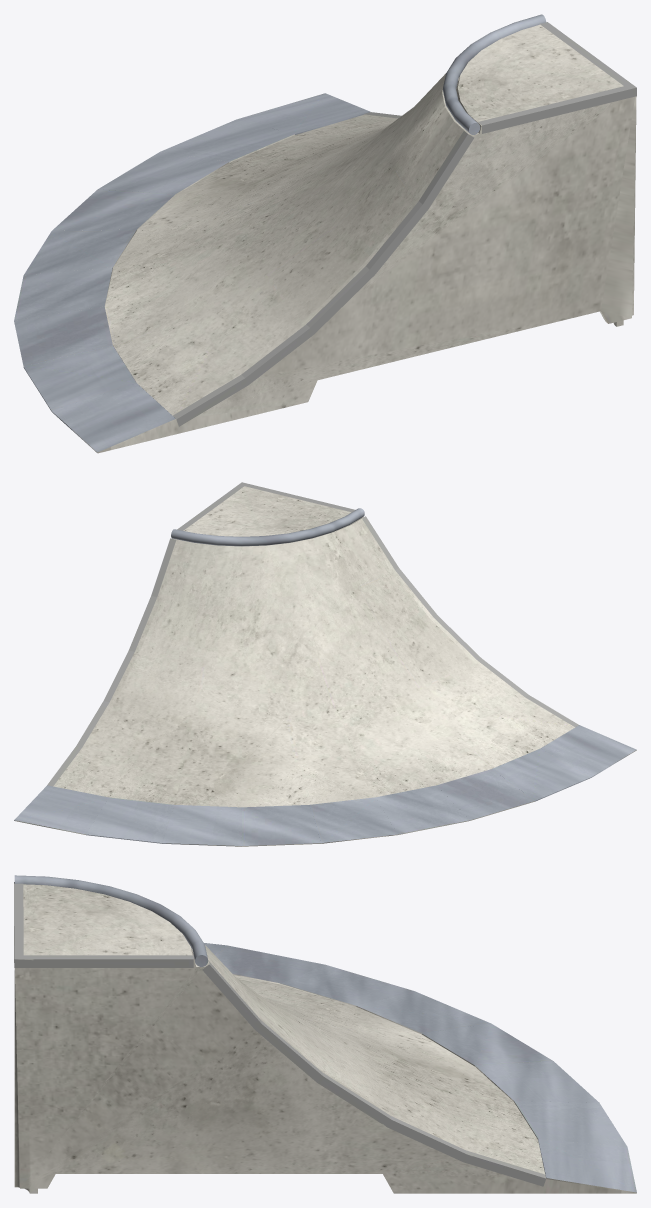
The model's file is kegel-98.gltf.
3 renders of one model, top to bottom at view 1: azimuth 30°, elevation 25°; view 2: azimuth 150°, elevation 25°; view 3: azimuth 270°, elevation 25°, orthographic. The views are drawn at different scales.
Parts seen in each view (by area): view 1: SK0895_Kegel_98.001; view 2: SK0895_Kegel_98.001; view 3: SK0895_Kegel_98.001.
Part boxes in pixels (box(x1,y1,x2,y2)): SK0895_Kegel_98.001: box(14, 14, 636, 453); SK0895_Kegel_98.001: box(14, 482, 636, 846); SK0895_Kegel_98.001: box(14, 875, 636, 1193).
Bounding box in the file's own units: 2.32 × 0.9791 × 2.32.
Materials: 3 (3 with a texture image).
